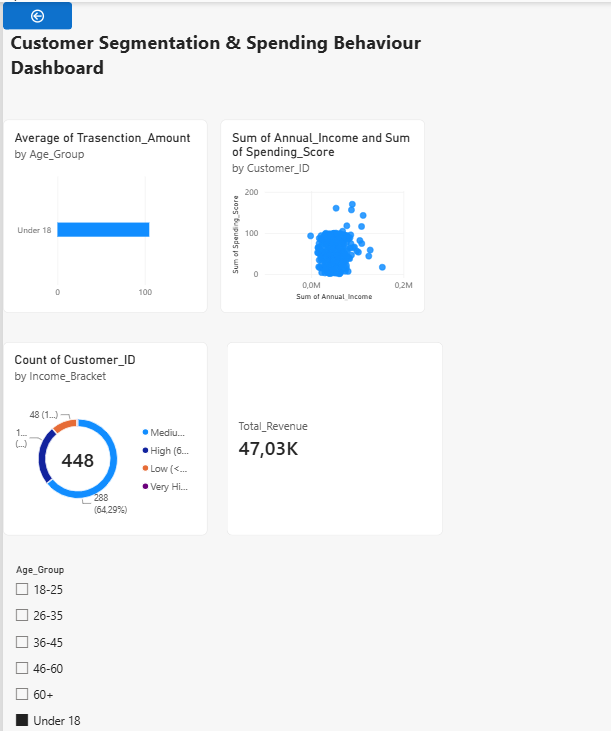

This screenshot's page, from the dashboard's own definition file:
{"tool":"powerbi","page":{"name":"Page 1","canvas":[1920,1080],"ordinal":0},"visuals":[{"type":"clusteredBarChart","fields":{"Category":["clean_customer_data.Age_Group"],"Y":["Avg(clean_customer_data.Trasenction_Amount)"]},"box":[0,170,296,280],"z":0},{"type":"donutChart","fields":{"Category":["clean_customer_data.Income_Bracket"],"Y":["CountNonNull(clean_customer_data.Customer_ID)"]},"box":[0,491.7,296,280],"z":1},{"type":"scatterChart","fields":{"Category":["clean_customer_data.Customer_ID"],"X":["Sum(clean_customer_data.Annual_Income)"],"Y":["Sum(clean_customer_data.Spending_Score)"]},"box":[315,170,296,280],"z":2},{"type":"actionButton","box":[0,0,100,40],"z":3},{"type":"slicer","fields":{"Values":["clean_customer_data.Age_Group"]},"box":[10,811.7,610,250],"z":4},{"type":"cardVisual","fields":{"Data":["clean_customer_data.Total_Revenue"]},"box":[323.3,491.7,313.3,280],"z":5},{"type":"textbox","box":[10,40,731.7,83.3],"z":6}]}

Visuals, with their boxes on the page's 1920x1080 design canvas (x1, y1, x2, y2). These are canvas units, not pixel positions in the 611x731 screenshot, which may show the page scaled, cropped or inside an application window:
clusteredBarChart - clean_customer_data.Age_Group x Avg(clean_customer_data.Trasenction_Amount): (left=0, top=170, right=296, bottom=450)
donutChart - clean_customer_data.Income_Bracket x CountNonNull(clean_customer_data.Customer_ID): (left=0, top=492, right=296, bottom=772)
scatterChart - clean_customer_data.Customer_ID x Sum(clean_customer_data.Annual_Income): (left=315, top=170, right=611, bottom=450)
actionButton: (left=0, top=0, right=100, bottom=40)
slicer - clean_customer_data.Age_Group: (left=10, top=812, right=620, bottom=1062)
cardVisual - clean_customer_data.Total_Revenue: (left=323, top=492, right=637, bottom=772)
textbox: (left=10, top=40, right=742, bottom=123)
